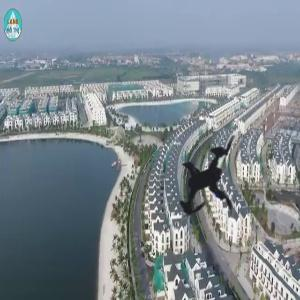drone: (136, 103, 290, 257)
